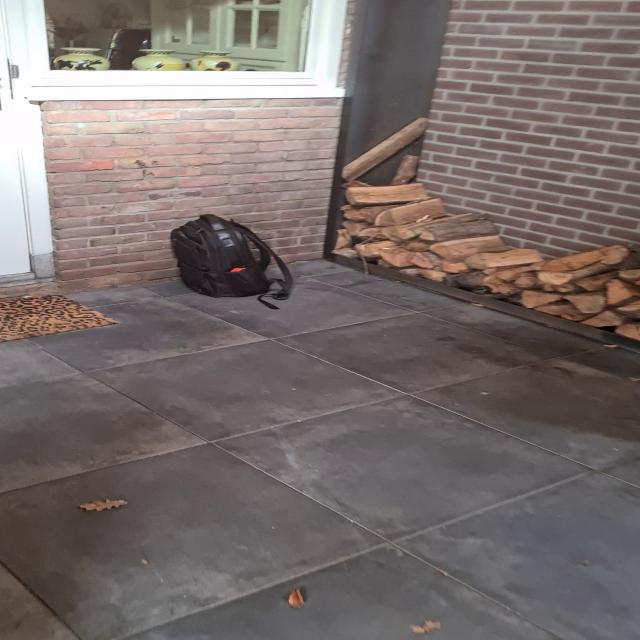backpack: (165, 211, 288, 303)
